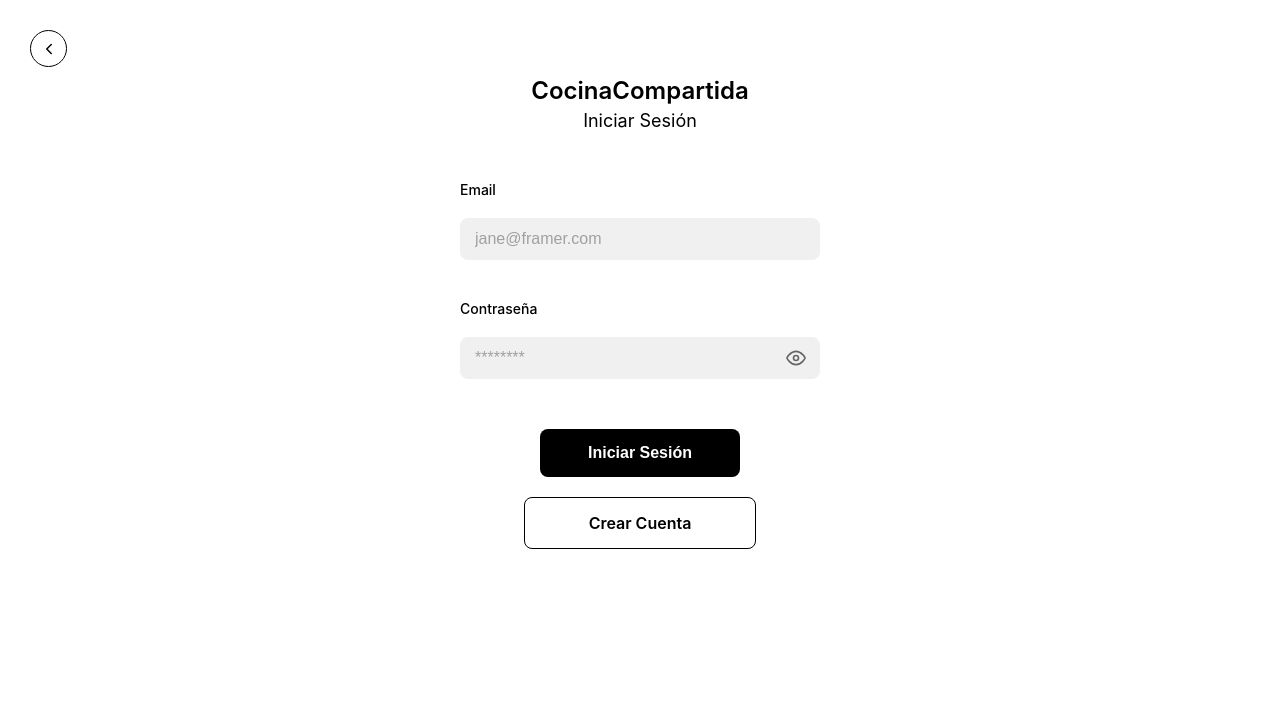
Login Flow › should show an error when logging in with invalid credentials
In the field labelled "Email": [640, 239] box [460, 218, 820, 260], type "hacker@test.com"
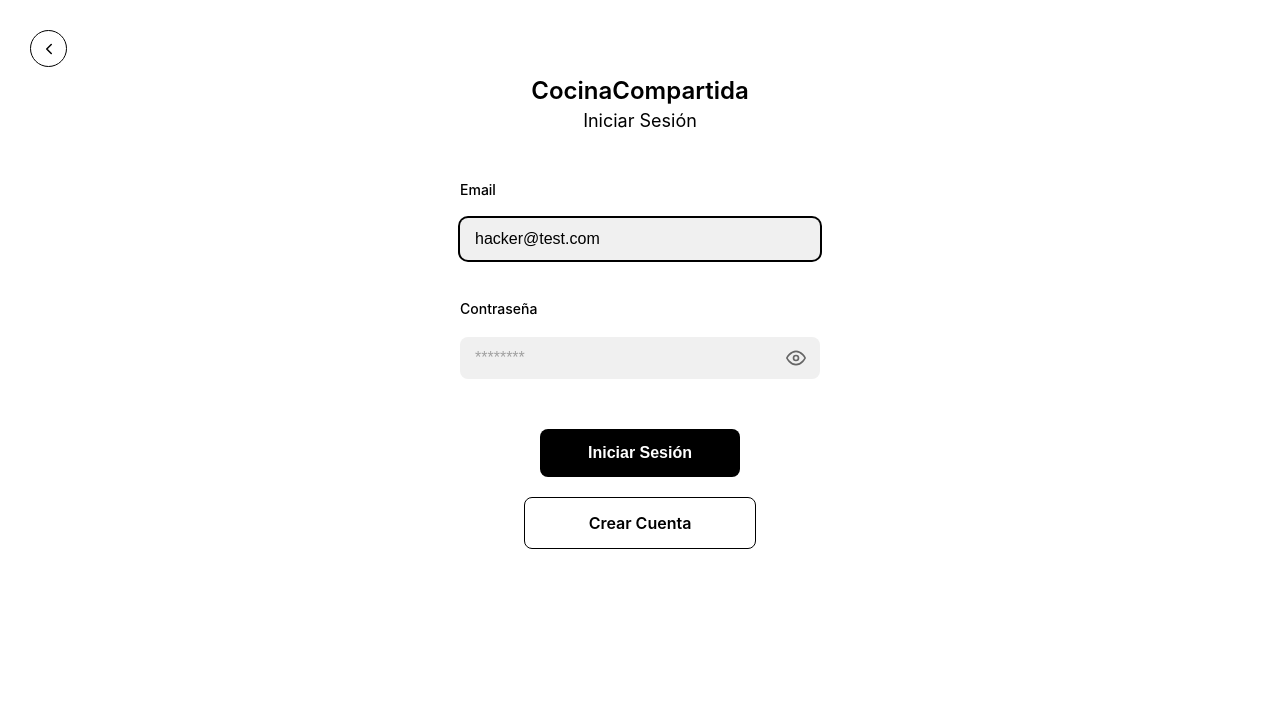
In the password field labelled "Contraseña": [640, 358] box [460, 337, 820, 379], type "wrongpassword123"
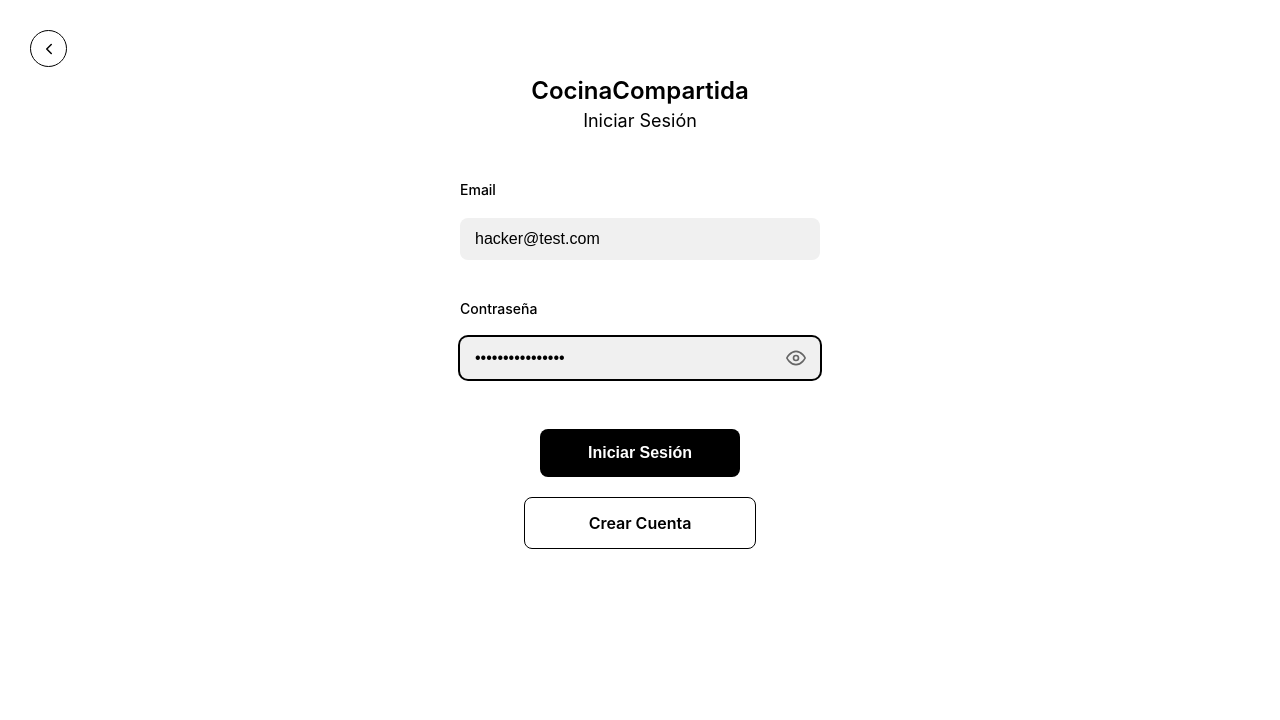
Click the submit button: [640, 453] box [540, 429, 740, 477]
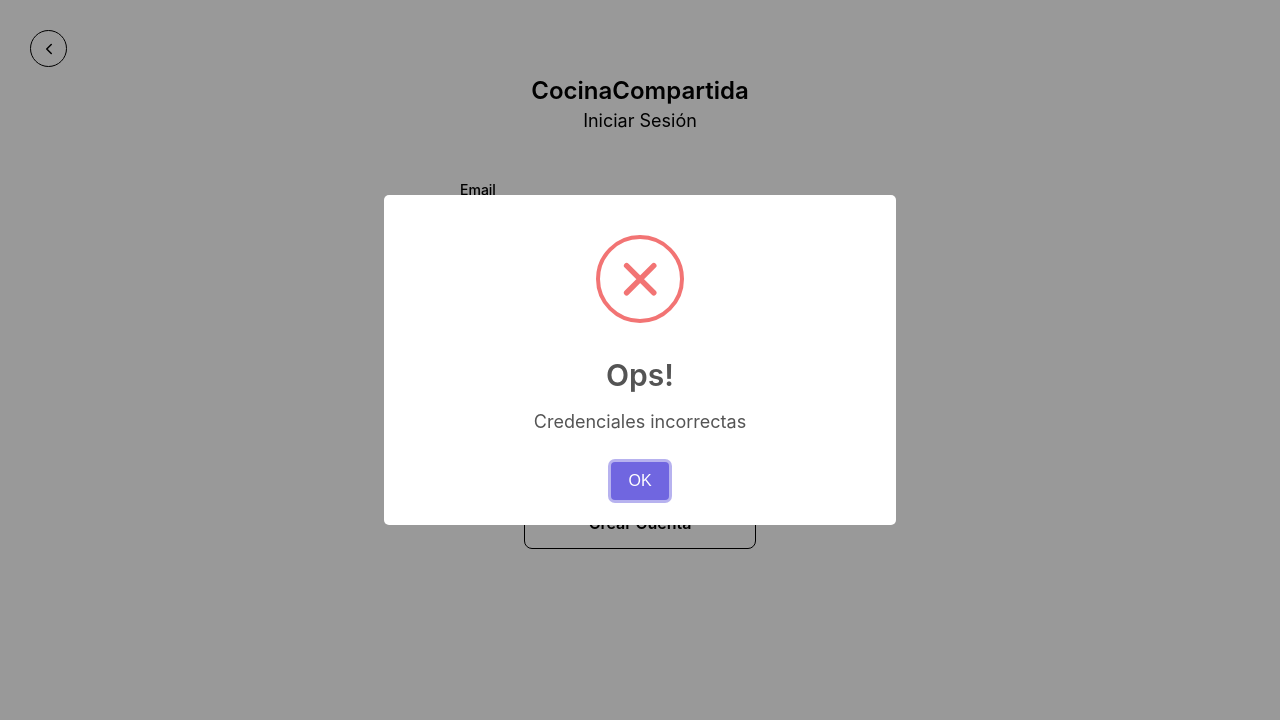
expect the dialog with class "swal2-popup" is shown: met, box [384, 195, 896, 525]
